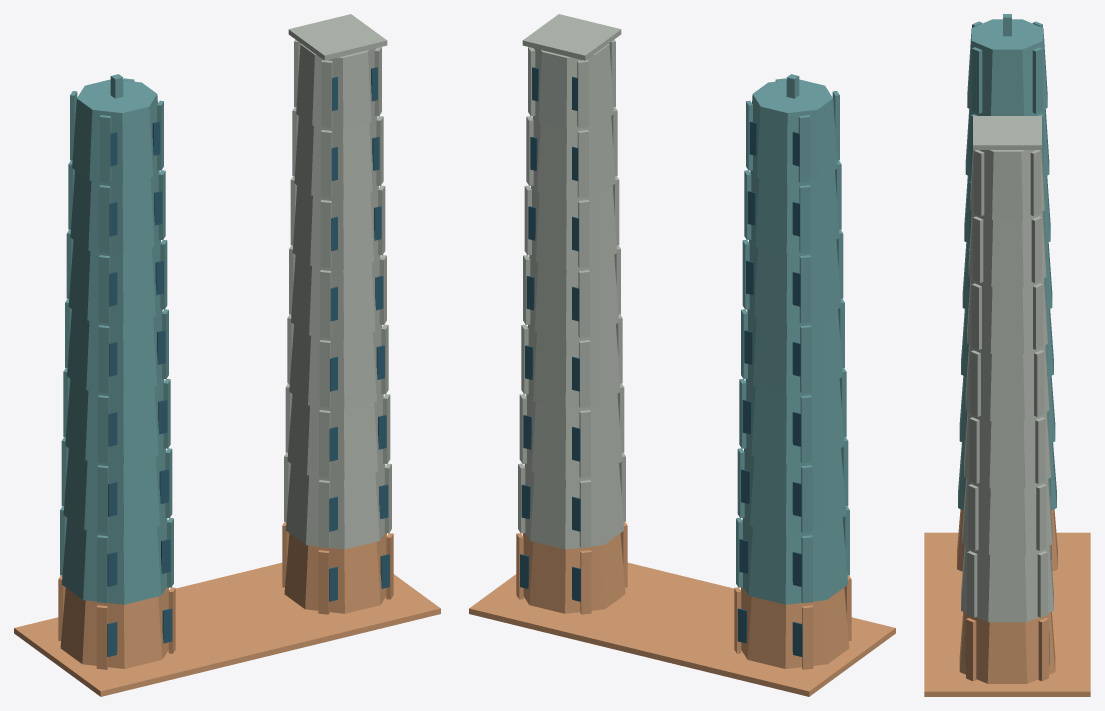
File: tower-pair.glb
3 renders of one model, left to right at view 1: azimuth 30°, elevation 25°; view 2: azimuth 150°, elevation 25°; view 3: azimuth 270°, elevation 25°, orthographic. The views are drawn at different scales.
Parts seen in each view (by area): view 1: TowerPairAnchor, TowerSection_1_7_Body, TowerSection_0_7_Body, TowerSection_0_1_Body, TowerSection_0_2_Body, TowerSection_0_0_Body, TowerSection_1_1_Body, TowerSection_0_3_Body, TowerSection_1_2_Body, TowerSection_0_4_Body, TowerSection_1_0_Body, TowerSection_0_5_Body (+9 smaller); view 2: TowerPairAnchor, TowerSection_1_7_Body, TowerSection_0_7_Body, TowerSection_0_1_Body, TowerSection_0_2_Body, TowerSection_0_0_Body, TowerSection_1_1_Body, TowerSection_0_3_Body, TowerSection_1_2_Body, TowerSection_0_4_Body, TowerSection_1_0_Body, TowerSection_0_5_Body (+9 smaller); view 3: TowerPairAnchor, TowerSection_1_7_Body, TowerSection_0_7_Body, TowerSection_1_1_Body, TowerSection_1_2_Body, TowerSection_1_0_Body, TowerSection_1_3_Body, TowerSection_1_4_Body, TowerSection_1_5_Body, TowerSection_1_6_Body, TowerSection_0_6_Body, TowerSection_0_2_Body (+5 smaller).
Boxes of the visible parts, bbox=[...] form: TowerPairAnchor: bbox=[14, 562, 440, 696]; TowerSection_1_7_Body: bbox=[288, 14, 387, 129]; TowerSection_0_7_Body: bbox=[70, 74, 163, 184]; TowerSection_0_1_Body: bbox=[60, 506, 173, 604]; TowerSection_0_2_Body: bbox=[61, 437, 172, 534]; TowerSection_0_0_Body: bbox=[58, 575, 175, 669]; TowerSection_1_1_Body: bbox=[284, 452, 391, 549]; TowerSection_0_3_Body: bbox=[63, 368, 170, 464]; TowerSection_1_2_Body: bbox=[285, 383, 390, 479]; TowerSection_0_4_Body: bbox=[65, 298, 168, 394]; TowerSection_1_0_Body: bbox=[282, 522, 393, 614]; TowerSection_0_5_Body: bbox=[66, 229, 167, 324]; TowerPairAnchor: bbox=[469, 562, 895, 696]; TowerSection_1_7_Body: bbox=[522, 14, 621, 129]; TowerSection_0_7_Body: bbox=[746, 74, 839, 184]; TowerSection_0_1_Body: bbox=[736, 506, 849, 604]; TowerSection_0_2_Body: bbox=[737, 437, 848, 534]; TowerSection_0_0_Body: bbox=[734, 575, 851, 669]; TowerSection_1_1_Body: bbox=[518, 452, 625, 549]; TowerSection_0_3_Body: bbox=[739, 368, 846, 464]; TowerSection_1_2_Body: bbox=[519, 383, 624, 479]; TowerSection_0_4_Body: bbox=[741, 298, 844, 394]; TowerSection_1_0_Body: bbox=[516, 522, 627, 614]; TowerSection_0_5_Body: bbox=[742, 229, 843, 324]; TowerPairAnchor: bbox=[924, 532, 1090, 696]; TowerSection_1_7_Body: bbox=[970, 116, 1044, 219]; TowerSection_0_7_Body: bbox=[967, 14, 1047, 115]; TowerSection_1_1_Body: bbox=[961, 545, 1053, 622]; TowerSection_1_2_Body: bbox=[962, 478, 1052, 555]; TowerSection_1_0_Body: bbox=[959, 612, 1055, 683]; TowerSection_1_3_Body: bbox=[964, 412, 1050, 488]; TowerSection_1_4_Body: bbox=[965, 345, 1049, 420]; TowerSection_1_5_Body: bbox=[967, 278, 1047, 353]; TowerSection_1_6_Body: bbox=[968, 211, 1046, 286]; TowerSection_0_6_Body: bbox=[965, 109, 1049, 177]; TowerSection_0_2_Body: bbox=[959, 375, 1055, 443].
Size of the model in its own units: 15.4 by 24.84 by 6.8.
